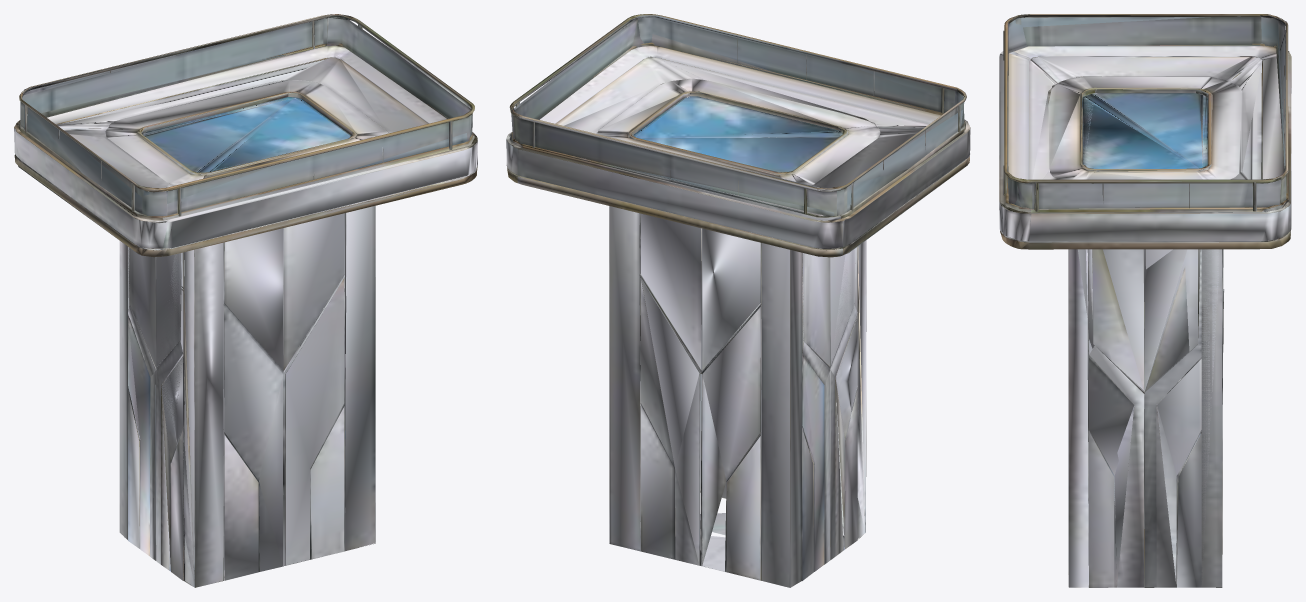
Rendered from skydeck.glb.
The picture shows the model from 3 angles, left to right: view 1: azimuth 30°, elevation 25°; view 2: azimuth 150°, elevation 25°; view 3: azimuth 270°, elevation 25°; orthographic projection.
Size of the model in its own units: 0.7793 by 0.9512 by 0.5654.
Materials: 1 (1 with a texture image).
